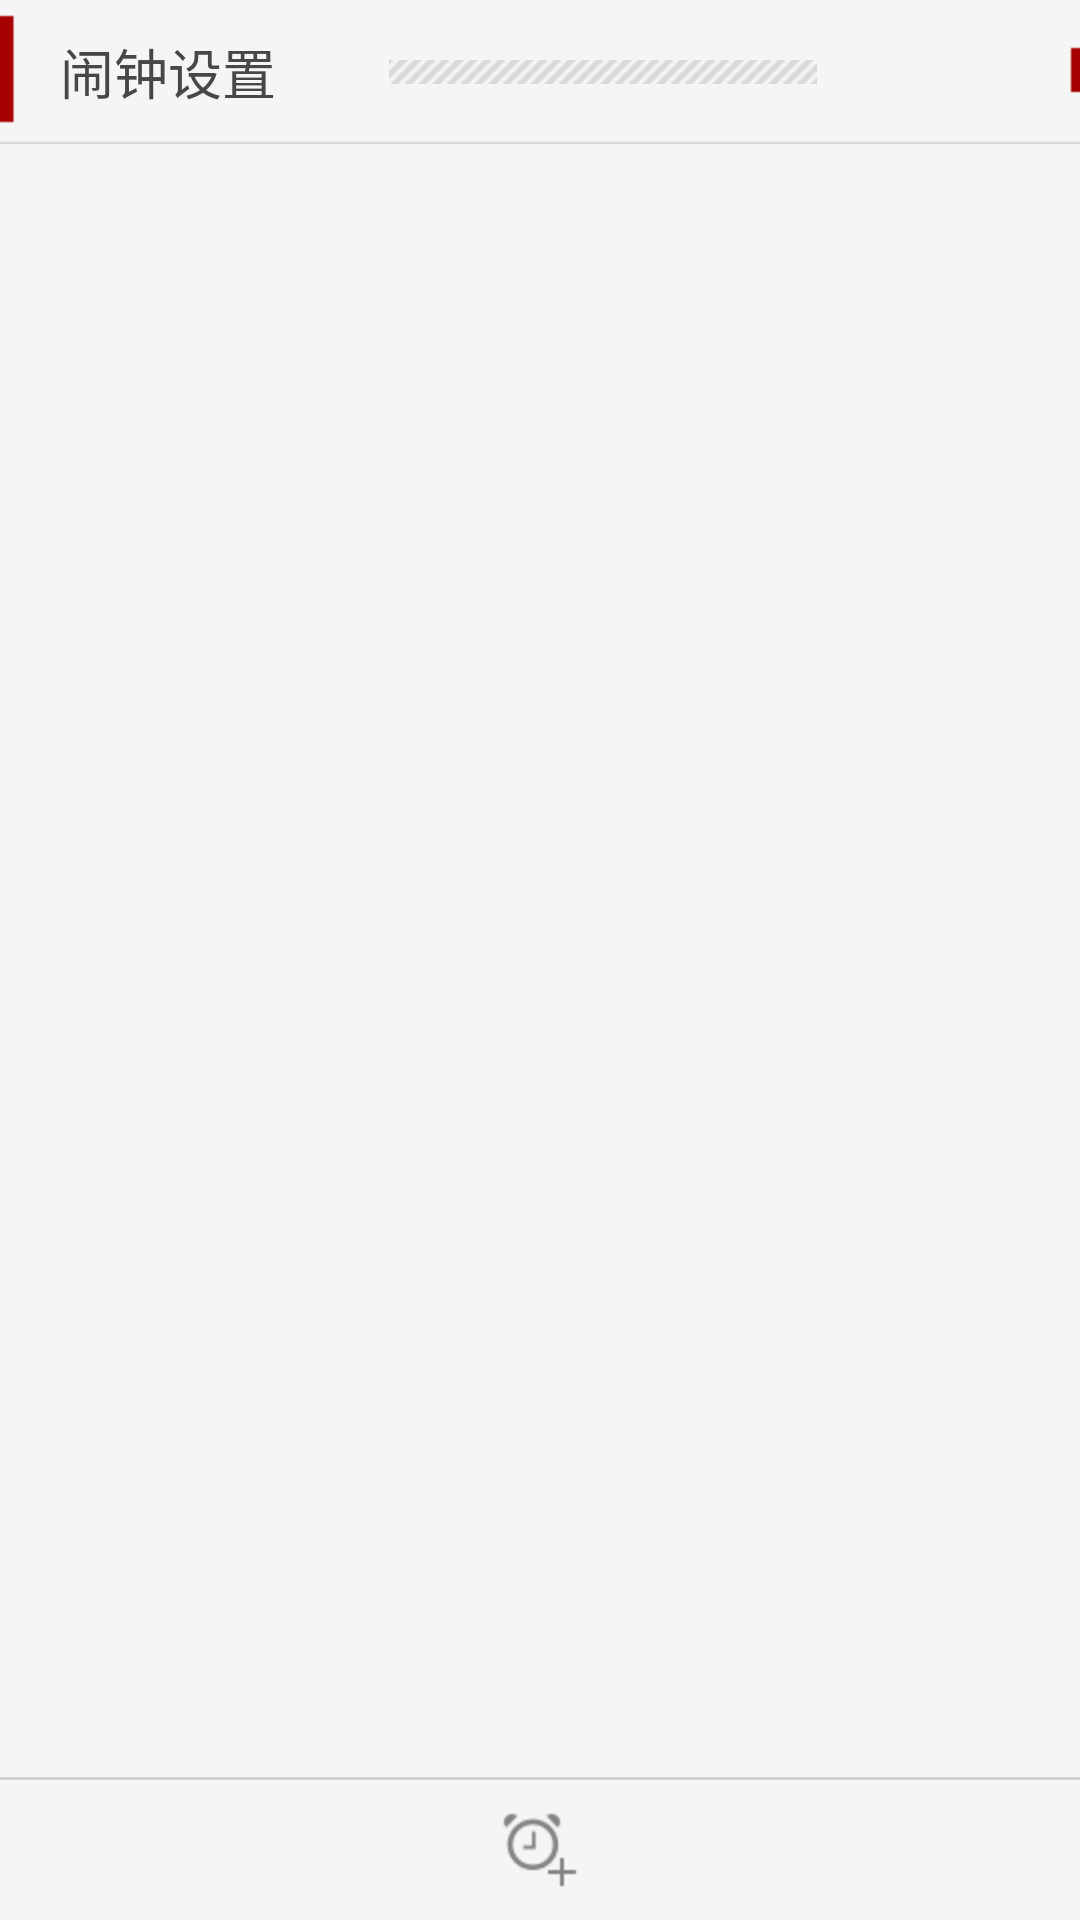

Screen size 1080x1920. Icon name, then its box in pixels as (x1,y1,x2,y2):
add clock: (503,1813,577,1887)
